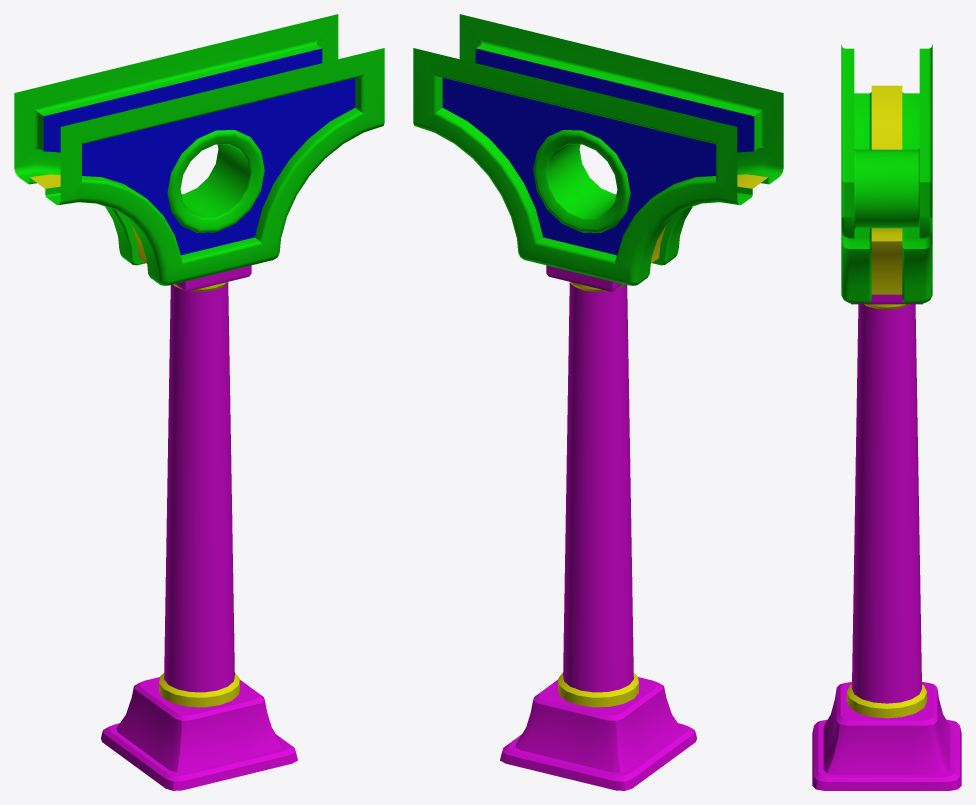
File: Pillar02.fbx
3 views of the same model, side by side, from view 1: azimuth 30°, elevation 25°; view 2: azimuth 150°, elevation 25°; view 3: azimuth 270°, elevation 25° (orthographic).
Visible parts, largest first — view 1: pCube76; view 2: pCube76; view 3: pCube76.
Part boxes in pixels (left/top/right/bottom): pCube76: left=14, top=14, right=384, bottom=790; pCube76: left=413, top=14, right=783, bottom=790; pCube76: left=812, top=44, right=961, bottom=790.
Bounding box in the file's own units: 300 × 600 × 122.
